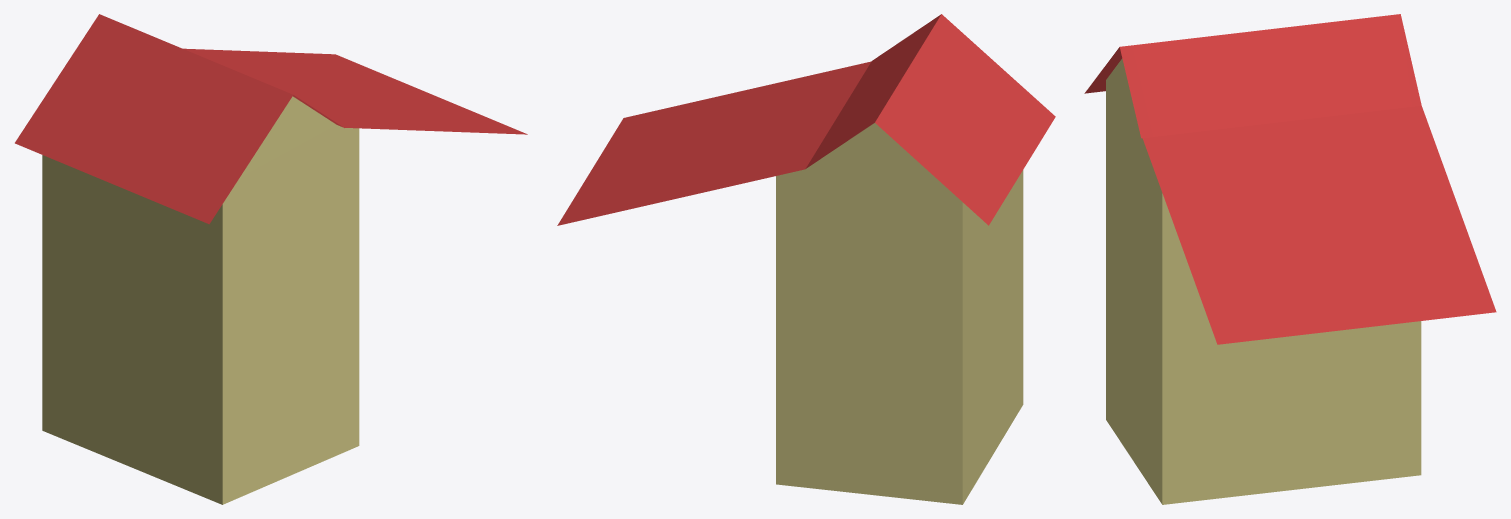
3 renders of one model, left to right at view 1: azimuth 30°, elevation 25°; view 2: azimuth 150°, elevation 25°; view 3: azimuth 270°, elevation 25°, orthographic. The views are drawn at different scales.
Bounding box in the file's own units: 11.07 × 8.32 × 9.2.
